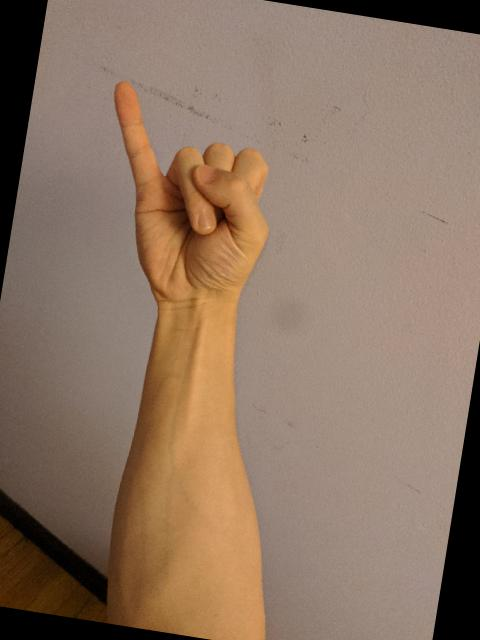I: (77, 74, 294, 324)
